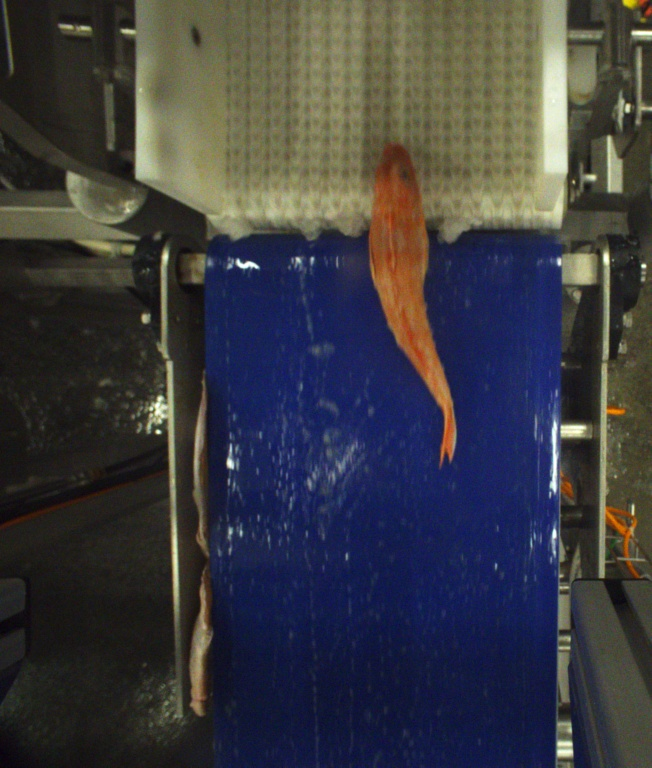GUU: (368, 141, 461, 468)
